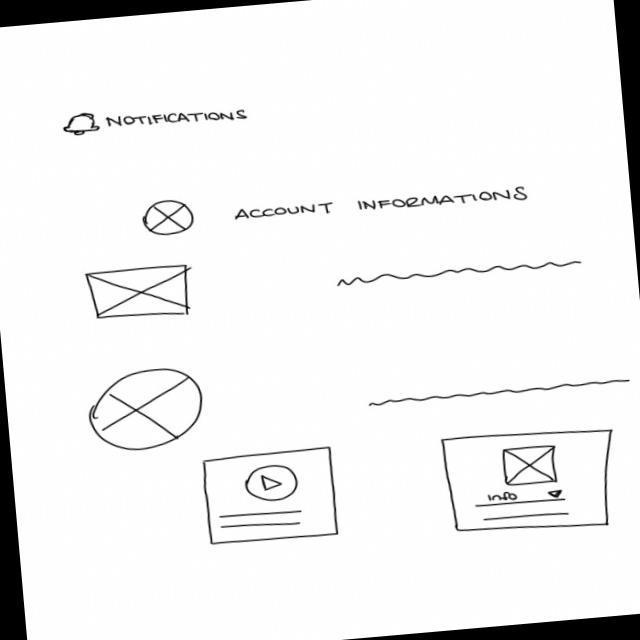container: (441, 423, 623, 542), (201, 445, 342, 550)
image: (85, 365, 208, 456), (83, 263, 194, 328), (501, 444, 562, 489), (141, 198, 197, 238)
label: (232, 182, 529, 228), (105, 102, 251, 134)
select: (472, 486, 569, 511)
text: (368, 376, 636, 410), (336, 254, 587, 290)
textbox: (216, 507, 311, 534)
